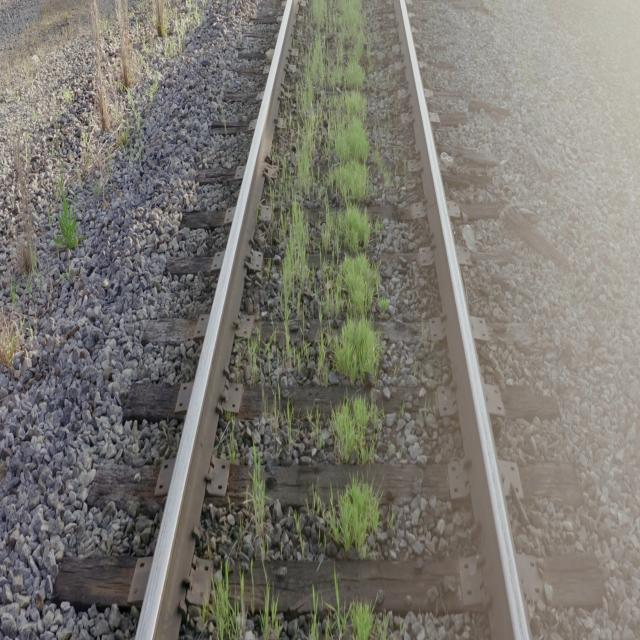Plant: (280, 0, 381, 384), (311, 478, 380, 553), (309, 589, 382, 640), (329, 393, 380, 464), (209, 560, 248, 640), (251, 447, 266, 549), (259, 584, 281, 640), (349, 602, 375, 640), (364, 524, 365, 529)
